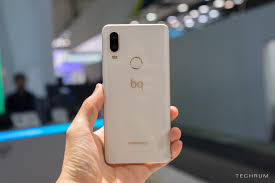vsmart: (98, 20, 174, 168)
